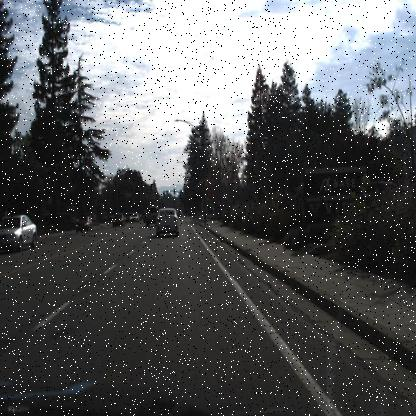car: (0, 212, 37, 250), (155, 205, 179, 235), (73, 212, 94, 232), (144, 203, 158, 226), (111, 210, 126, 227), (76, 218, 90, 234), (130, 211, 140, 226)
